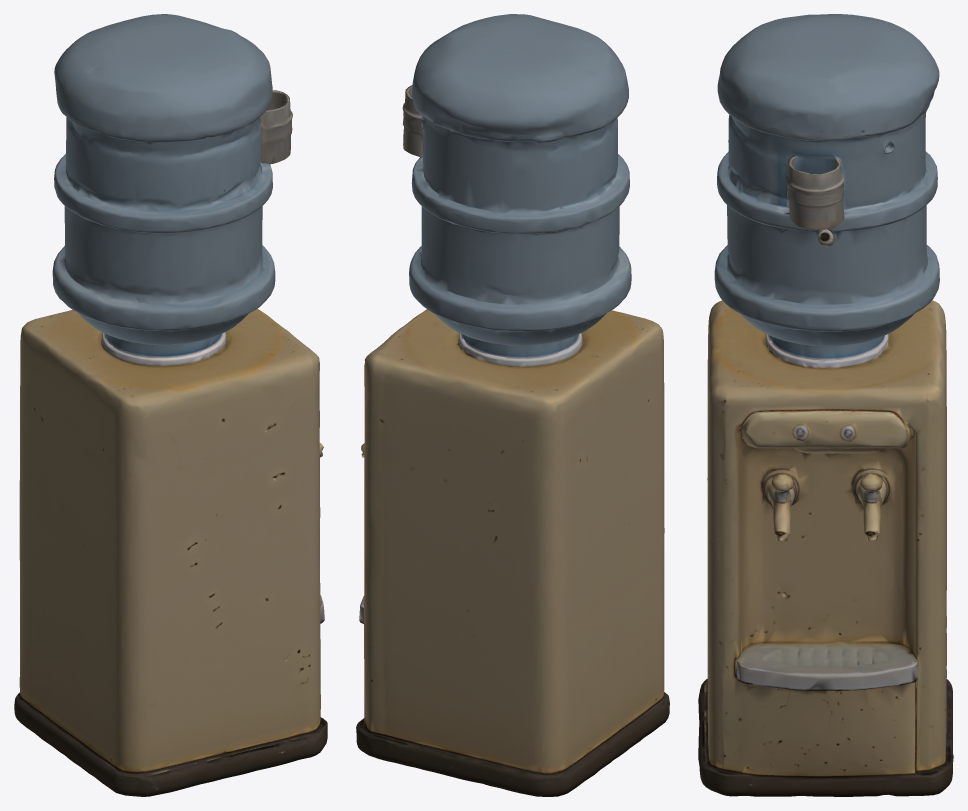
3 renders of one model, left to right at view 1: azimuth 30°, elevation 25°; view 2: azimuth 150°, elevation 25°; view 3: azimuth 270°, elevation 25°, orthographic.
Visible parts, largest first — view 1: tripo_node_78d0e537-ddfe-41f3-a071-28ef15966589; view 2: tripo_node_78d0e537-ddfe-41f3-a071-28ef15966589; view 3: tripo_node_78d0e537-ddfe-41f3-a071-28ef15966589.
Boxes of the visible parts, x1,y1,x2,y2 form: tripo_node_78d0e537-ddfe-41f3-a071-28ef15966589: [14, 14, 327, 796]; tripo_node_78d0e537-ddfe-41f3-a071-28ef15966589: [356, 14, 669, 796]; tripo_node_78d0e537-ddfe-41f3-a071-28ef15966589: [698, 14, 953, 796].
Bounding box in the file's own units: 0.3587 × 1 × 0.3301.
1 material, 1 textured.
